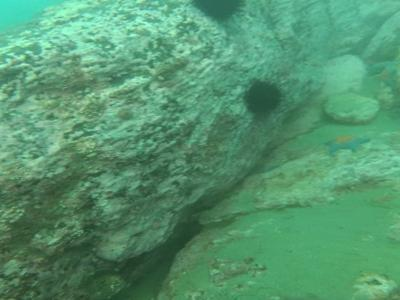urchin: (243, 77, 283, 118), (192, 2, 245, 25)
